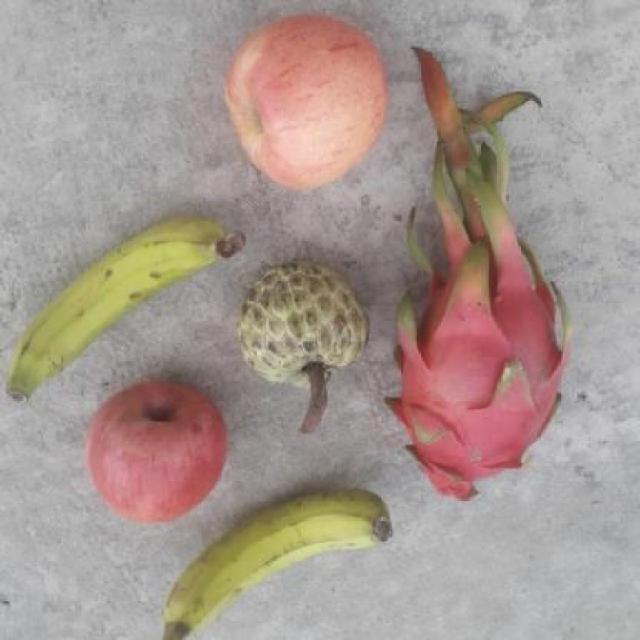apple: (218, 12, 394, 196), (79, 376, 232, 529)
banana: (5, 223, 230, 403), (147, 483, 395, 640)
dragon fruit: (379, 235, 579, 502)
sugar apple: (231, 257, 368, 392)
